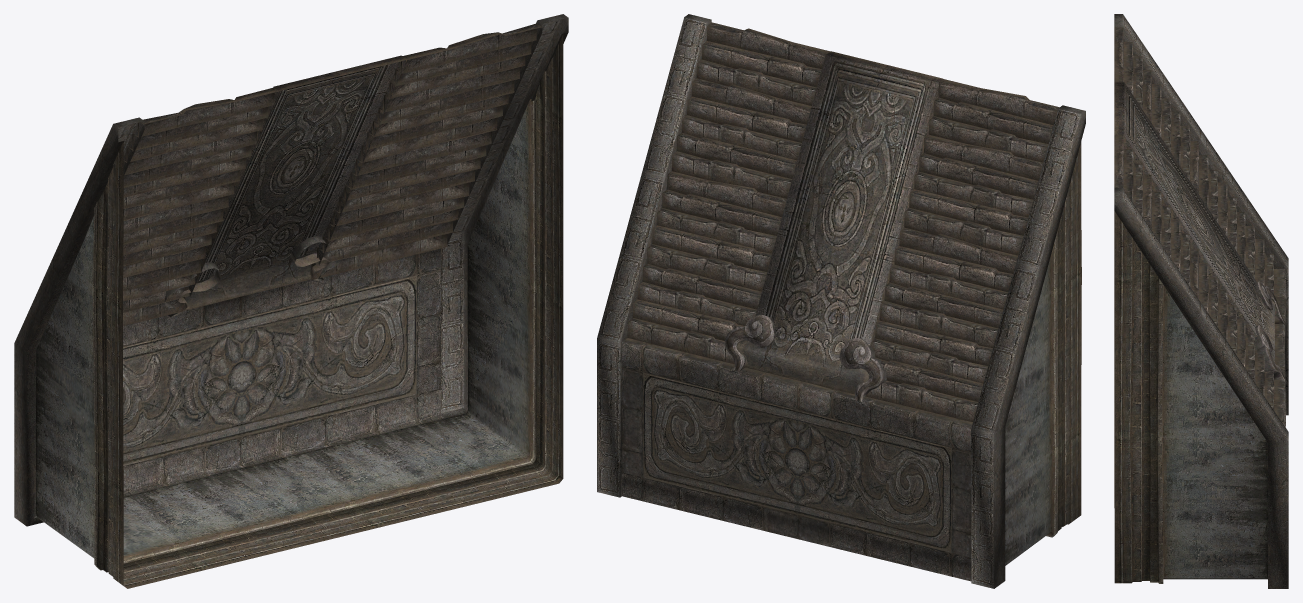
File: taijie.FBX
The picture shows the model from 3 angles, left to right: view 1: azimuth 30°, elevation 25°; view 2: azimuth 150°, elevation 25°; view 3: azimuth 270°, elevation 25°; orthographic projection. The views are drawn at different scales.
Visible parts, largest first — view 1: Mesh_0329; view 2: Mesh_0329; view 3: Mesh_0329.
Part boxes in pixels (x1,y1,x2,y2): Mesh_0329: (14, 14, 568, 588); Mesh_0329: (597, 14, 1085, 588); Mesh_0329: (1114, 14, 1288, 588).
Size of the model in its own units: 10.42 by 10.31 by 4.16.
Materials: 1 (1 with a texture image).
